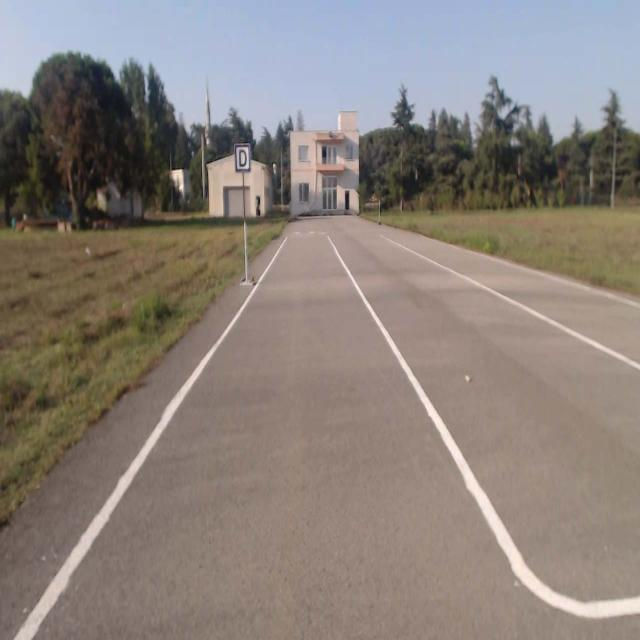durak: (234, 144, 250, 172)
